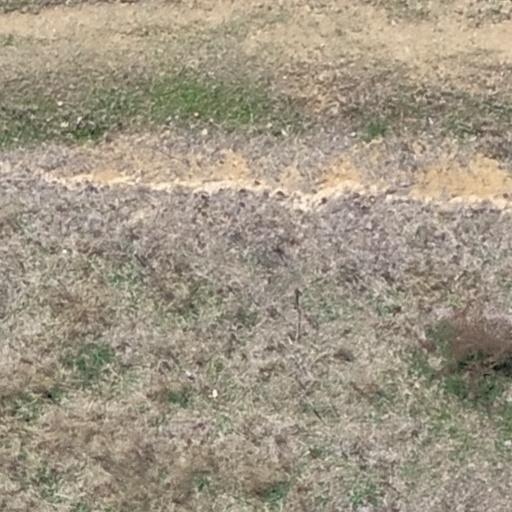stone: (186, 371, 195, 381), (364, 221, 374, 230), (212, 389, 220, 399), (194, 113, 200, 118), (57, 102, 64, 106)
